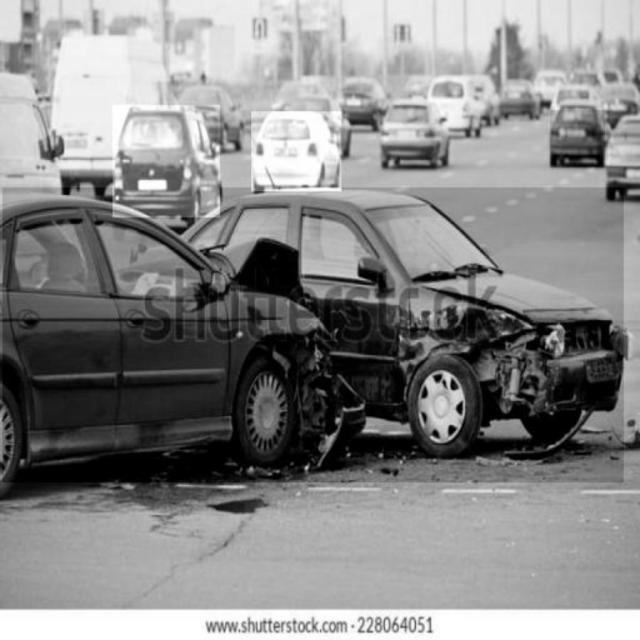accident: (3, 188, 624, 482)
vehicle: (113, 105, 221, 217), (252, 112, 342, 192), (380, 100, 453, 166), (550, 109, 605, 167)
